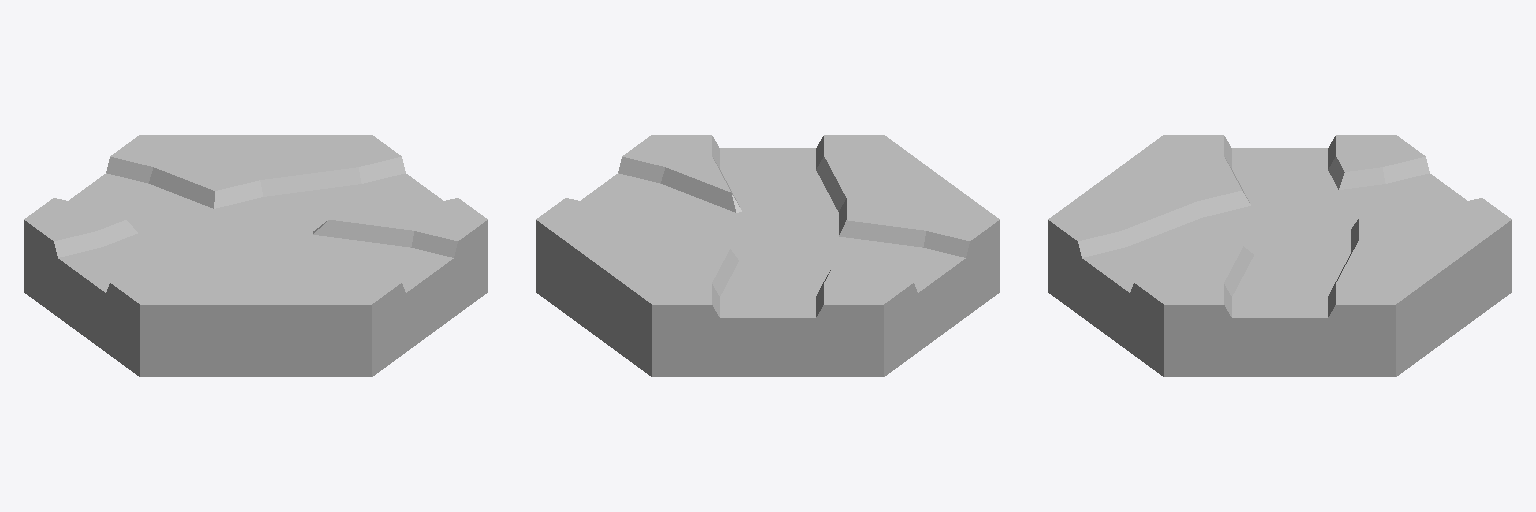
Rendered from river_intersectionE.obj.
3 views of the same model, side by side, from view 1: azimuth 30°, elevation 25°; view 2: azimuth 150°, elevation 25°; view 3: azimuth 270°, elevation 25° (orthographic).
Visible parts, largest first — view 1: river_intersectionE; view 2: river_intersectionE; view 3: river_intersectionE.
Part boxes in pixels (x1,y1,x2,y2): river_intersectionE: (24,135,487,376); river_intersectionE: (536,135,999,376); river_intersectionE: (1048,135,1511,376).
Bounding box in the file's own units: 1 × 0.2 × 1.15.